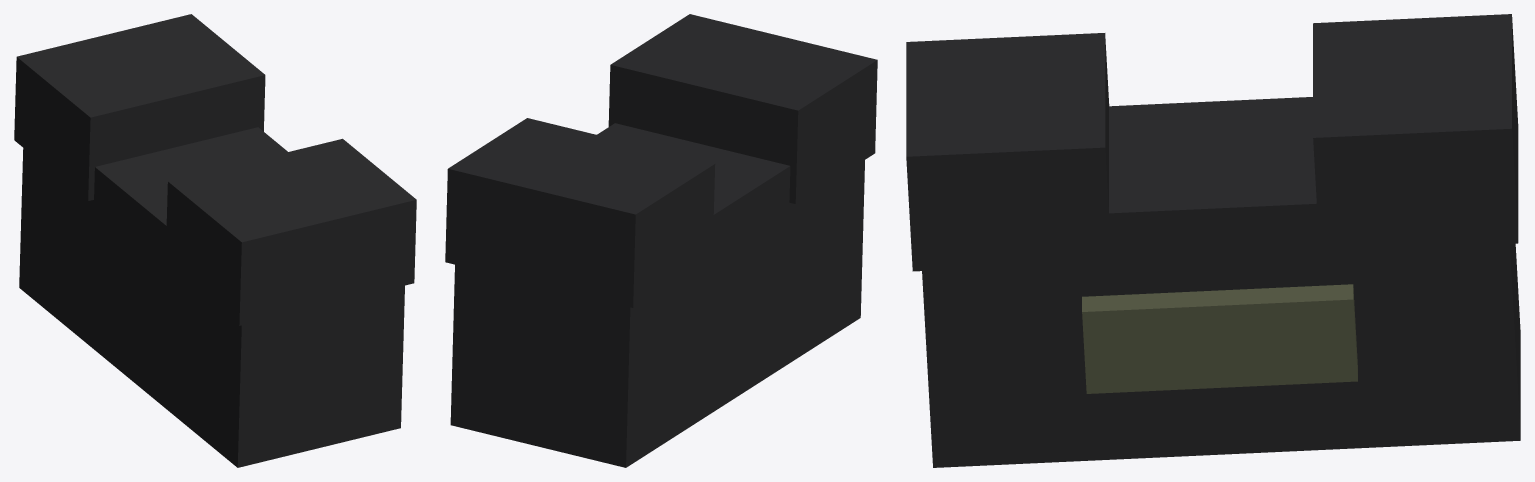
File: prc25_handset.glb
The picture shows the model from 3 angles, left to right: view 1: azimuth 30°, elevation 25°; view 2: azimuth 150°, elevation 25°; view 3: azimuth 270°, elevation 25°; orthographic projection. The views are drawn at different scales.
Parts seen in each view (by area): view 1: prc25_handset; view 2: prc25_handset; view 3: prc25_handset.
Boxes of the visible parts, box(x1,y1,x2,y2) form: prc25_handset: box(14, 14, 416, 467); prc25_handset: box(445, 14, 877, 467); prc25_handset: box(906, 14, 1520, 467).
Bounding box in the file's own units: 0.066 × 0.0836 × 0.1358.
Materials: 1 (1 with a texture image).
